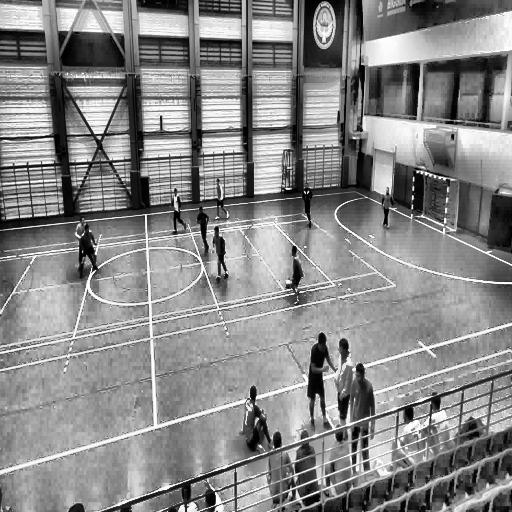ball: (285, 278, 291, 290)
player: (308, 331, 338, 432), (348, 363, 375, 466), (242, 384, 271, 456), (74, 217, 100, 272), (285, 244, 304, 304), (78, 223, 98, 276), (213, 225, 228, 280), (171, 188, 186, 233), (196, 208, 209, 254), (216, 179, 228, 218), (302, 184, 312, 228), (381, 188, 391, 229)
